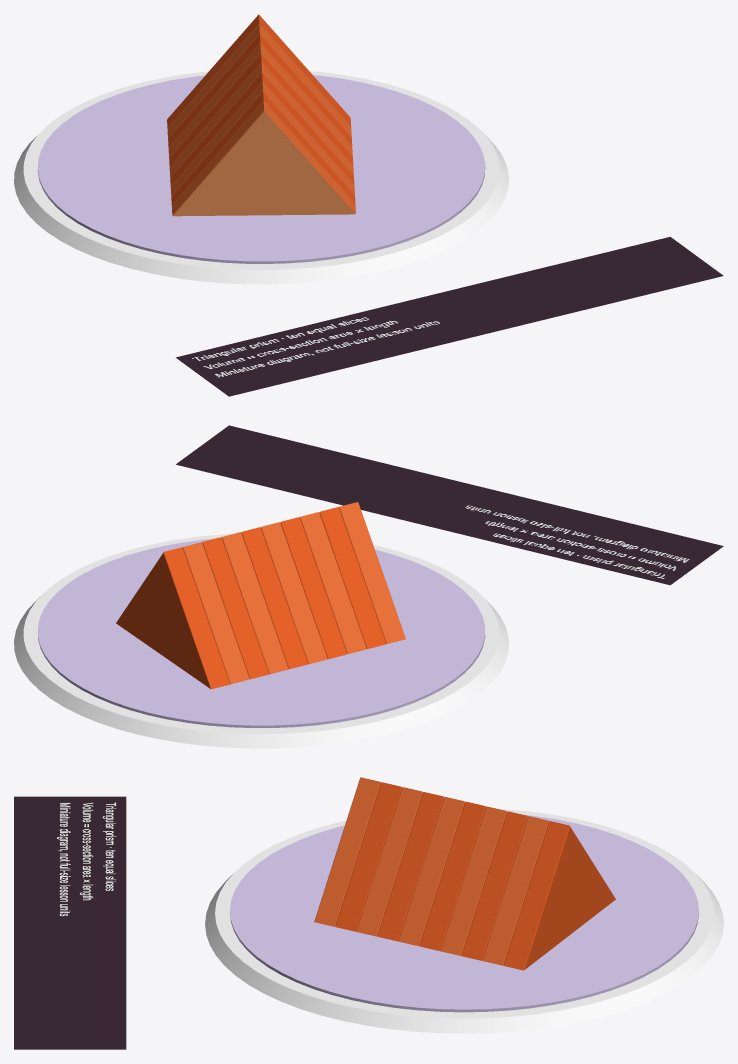
The model's file is shapes.glb.
The picture shows the model from 3 angles, top to bottom: view 1: azimuth 30°, elevation 25°; view 2: azimuth 150°, elevation 25°; view 3: azimuth 270°, elevation 25°; orthographic projection. The views are drawn at different scales.
Visible parts, largest first — view 1: shapes_authored_teaching_model, Scale_and_credit; view 2: shapes_authored_teaching_model, Scale_and_credit; view 3: shapes_authored_teaching_model, Scale_and_credit.
Part boxes in pixels (x1,y1,x2,y2): shapes_authored_teaching_model: [14, 14, 508, 284]; Scale_and_credit: [176, 236, 723, 396]; shapes_authored_teaching_model: [14, 502, 508, 748]; Scale_and_credit: [176, 425, 723, 585]; shapes_authored_teaching_model: [205, 777, 723, 1033]; Scale_and_credit: [14, 796, 126, 1049].
Bounding box in the file's own units: 0.6 × 0.1358 × 0.7114.
14 materials, 1 textured.
